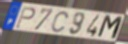4: (85, 14, 100, 38)
7: (34, 7, 55, 32)
9: (68, 11, 85, 36)
C: (50, 10, 69, 34)
M: (96, 14, 125, 42)
P: (15, 6, 37, 30)
